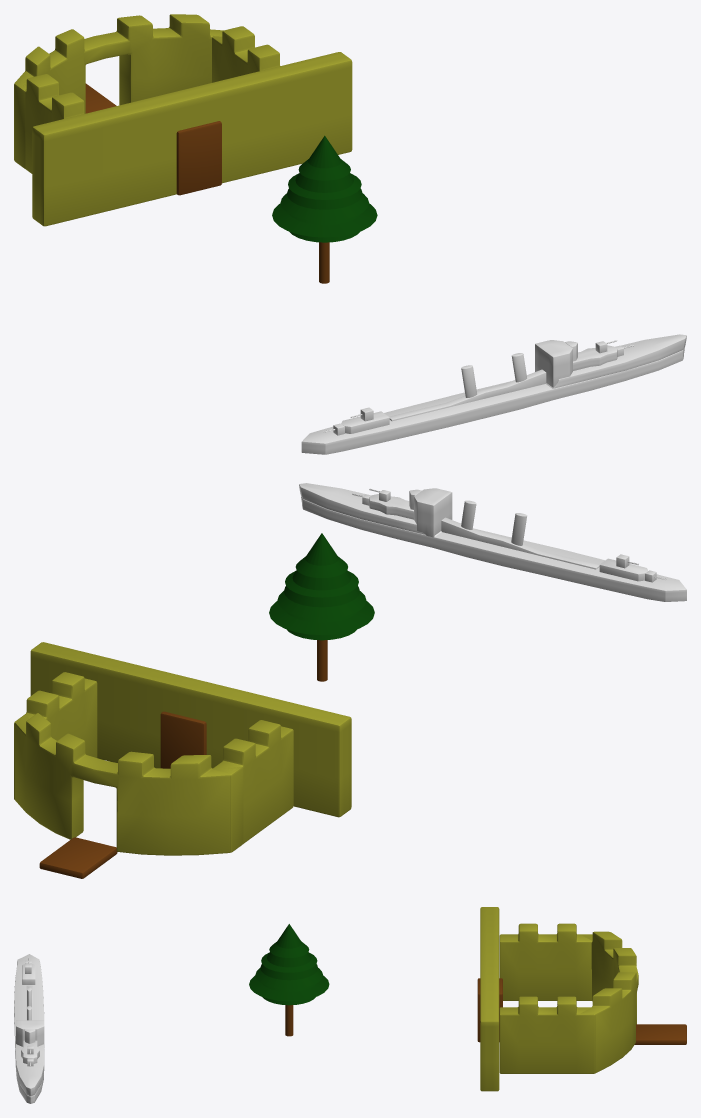
Rendered from kale ve gemi1.fbx.
3 views of the same model, one above another, from view 1: azimuth 30°, elevation 25°; view 2: azimuth 150°, elevation 25°; view 3: azimuth 270°, elevation 25° (orthographic). The views are drawn at different scales.
Parts seen in each view (by area): view 1: canon, kale1, Ağaç; view 2: canon, kale1, Ağaç; view 3: canon, Ağaç, kale1.
Boxes of the visible parts, left/top/right/bottom form: canon: left=14, top=14, right=352, bottom=226; kale1: left=301, top=334, right=686, bottom=454; Ağaç: left=272, top=135, right=377, bottom=283; canon: left=14, top=642, right=351, bottom=878; kale1: left=299, top=483, right=686, bottom=601; Ağaç: left=269, top=533, right=374, bottom=681; canon: left=477, top=907, right=686, bottom=1091; Ağaç: left=249, top=924, right=329, bottom=1036; kale1: left=14, top=954, right=44, bottom=1103.
Bounding box in the file's own units: 58.27 × 21.59 × 115.
